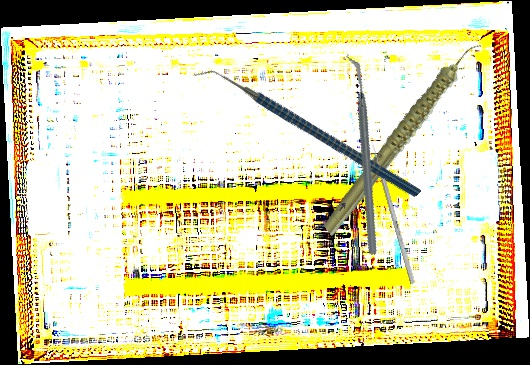Chopper: (192, 10, 422, 257), (287, 53, 437, 257)
Handpiece: (290, 38, 519, 239)
Pusher: (368, 136, 416, 285)
